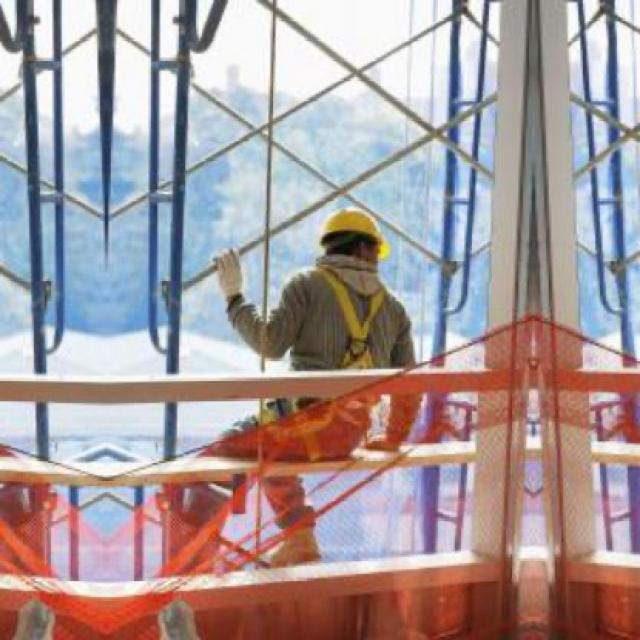helmet: (308, 194, 392, 295)
